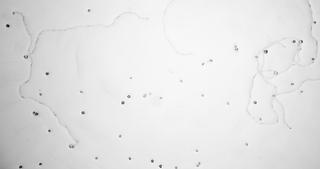germinated: (67, 142, 76, 149), (270, 68, 278, 75), (261, 49, 268, 57), (299, 38, 304, 48), (23, 52, 30, 59), (206, 57, 213, 63)
nongerminated: (177, 77, 184, 85), (193, 146, 200, 154), (116, 132, 123, 140), (85, 6, 92, 14), (298, 88, 305, 95), (224, 99, 231, 106), (125, 92, 132, 99), (118, 99, 125, 106), (199, 92, 206, 99), (36, 160, 43, 167), (17, 162, 24, 169), (4, 22, 11, 29), (158, 94, 164, 101), (200, 60, 206, 67), (253, 53, 259, 60), (127, 155, 133, 162), (46, 127, 52, 134), (44, 70, 50, 77), (37, 91, 43, 98), (252, 99, 258, 105), (291, 38, 297, 44), (312, 19, 318, 25), (309, 55, 315, 61), (289, 81, 295, 87), (141, 92, 147, 98), (244, 141, 250, 147), (149, 157, 155, 163), (93, 155, 99, 161), (80, 109, 86, 115), (258, 116, 263, 122), (232, 43, 238, 48), (173, 164, 179, 169), (157, 163, 163, 168), (35, 110, 40, 116), (30, 109, 35, 115), (233, 47, 240, 51), (196, 160, 203, 164), (194, 164, 200, 167)
